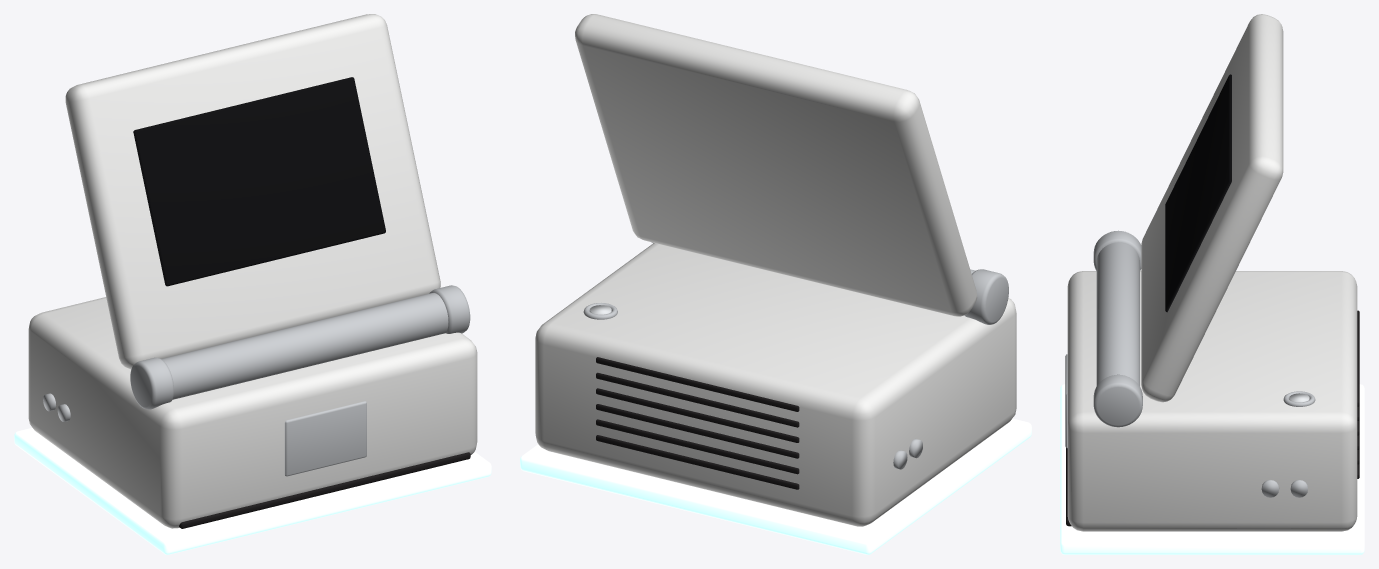
Rendered from derma_home.glb.
3 views of the same model, side by side, from view 1: azimuth 30°, elevation 25°; view 2: azimuth 150°, elevation 25°; view 3: azimuth 270°, elevation 25° (orthographic). The views are drawn at different scales.
Parts seen in each view (by area): view 1: Cube; view 2: Cube; view 3: Cube.
Boxes of the visible parts, x1,y1,x2,y2 form: Cube: (14, 14, 491, 554); Cube: (520, 14, 1031, 554); Cube: (1060, 14, 1364, 554).
Size of the model in its own units: 0.52 by 0.5974 by 0.42.
